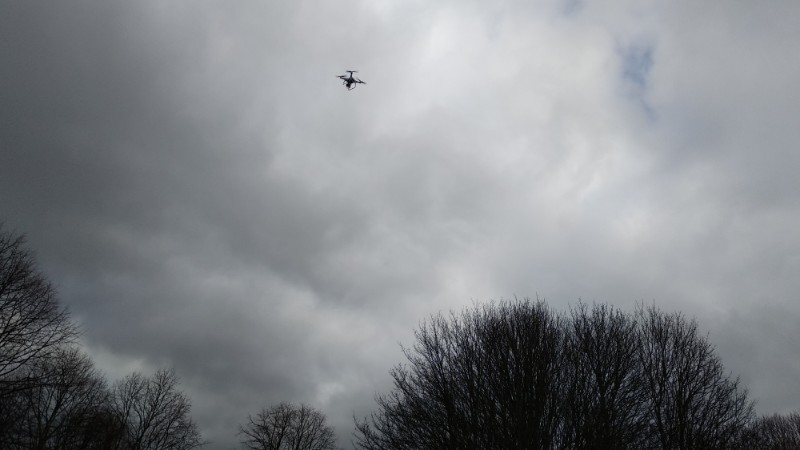drone: (338, 69, 366, 92)
